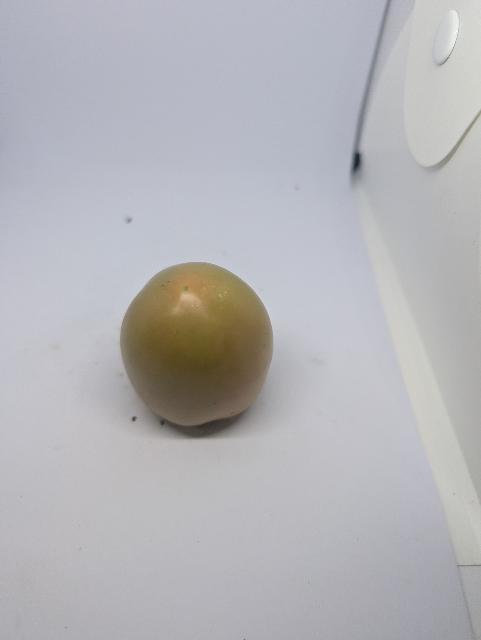breaker: (120, 262, 273, 426)
